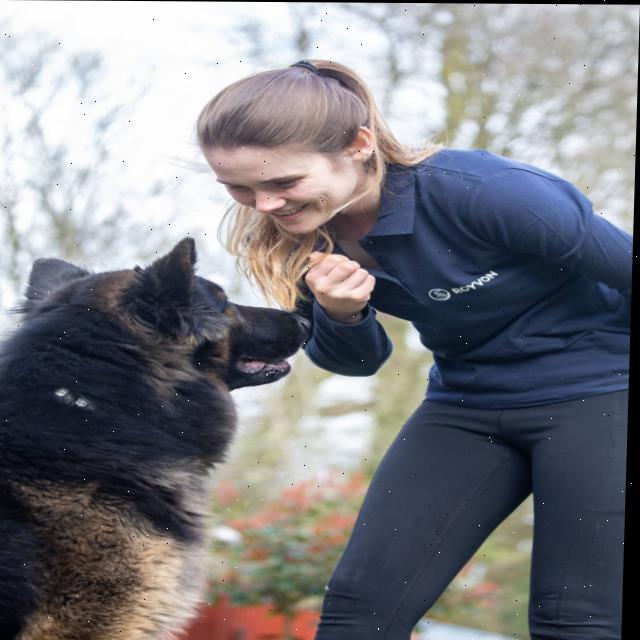GERMAN_SHEPHERD: (0, 218, 324, 640)
